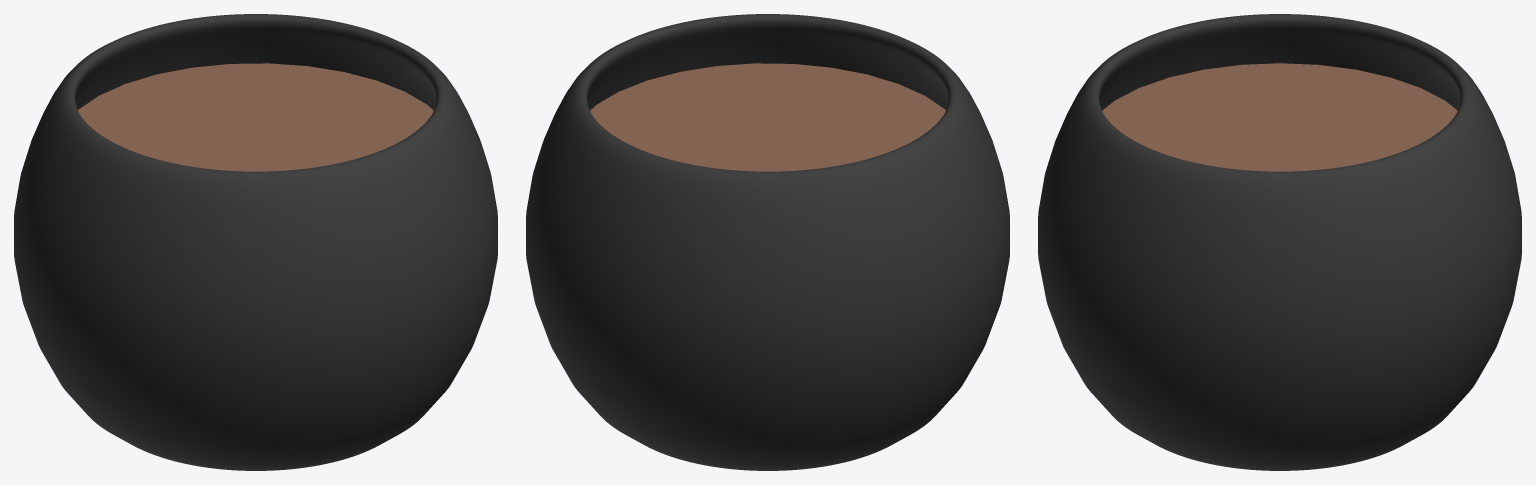
The model's file is round_black.glb.
3 renders of one model, left to right at view 1: azimuth 30°, elevation 25°; view 2: azimuth 150°, elevation 25°; view 3: azimuth 270°, elevation 25°, orthographic.
Visible parts, largest first — view 1: Circle.004, Circle.005; view 2: Circle.004, Circle.005; view 3: Circle.004, Circle.005.
Boxes of the visible parts, x1,y1,x2,y2 form: Circle.004: [14, 14, 497, 470]; Circle.005: [78, 63, 433, 171]; Circle.004: [526, 14, 1009, 470]; Circle.005: [590, 63, 945, 171]; Circle.004: [1038, 14, 1521, 470]; Circle.005: [1102, 63, 1457, 171].
Bounding box in the file's own units: 13.78 × 10.23 × 13.78.
